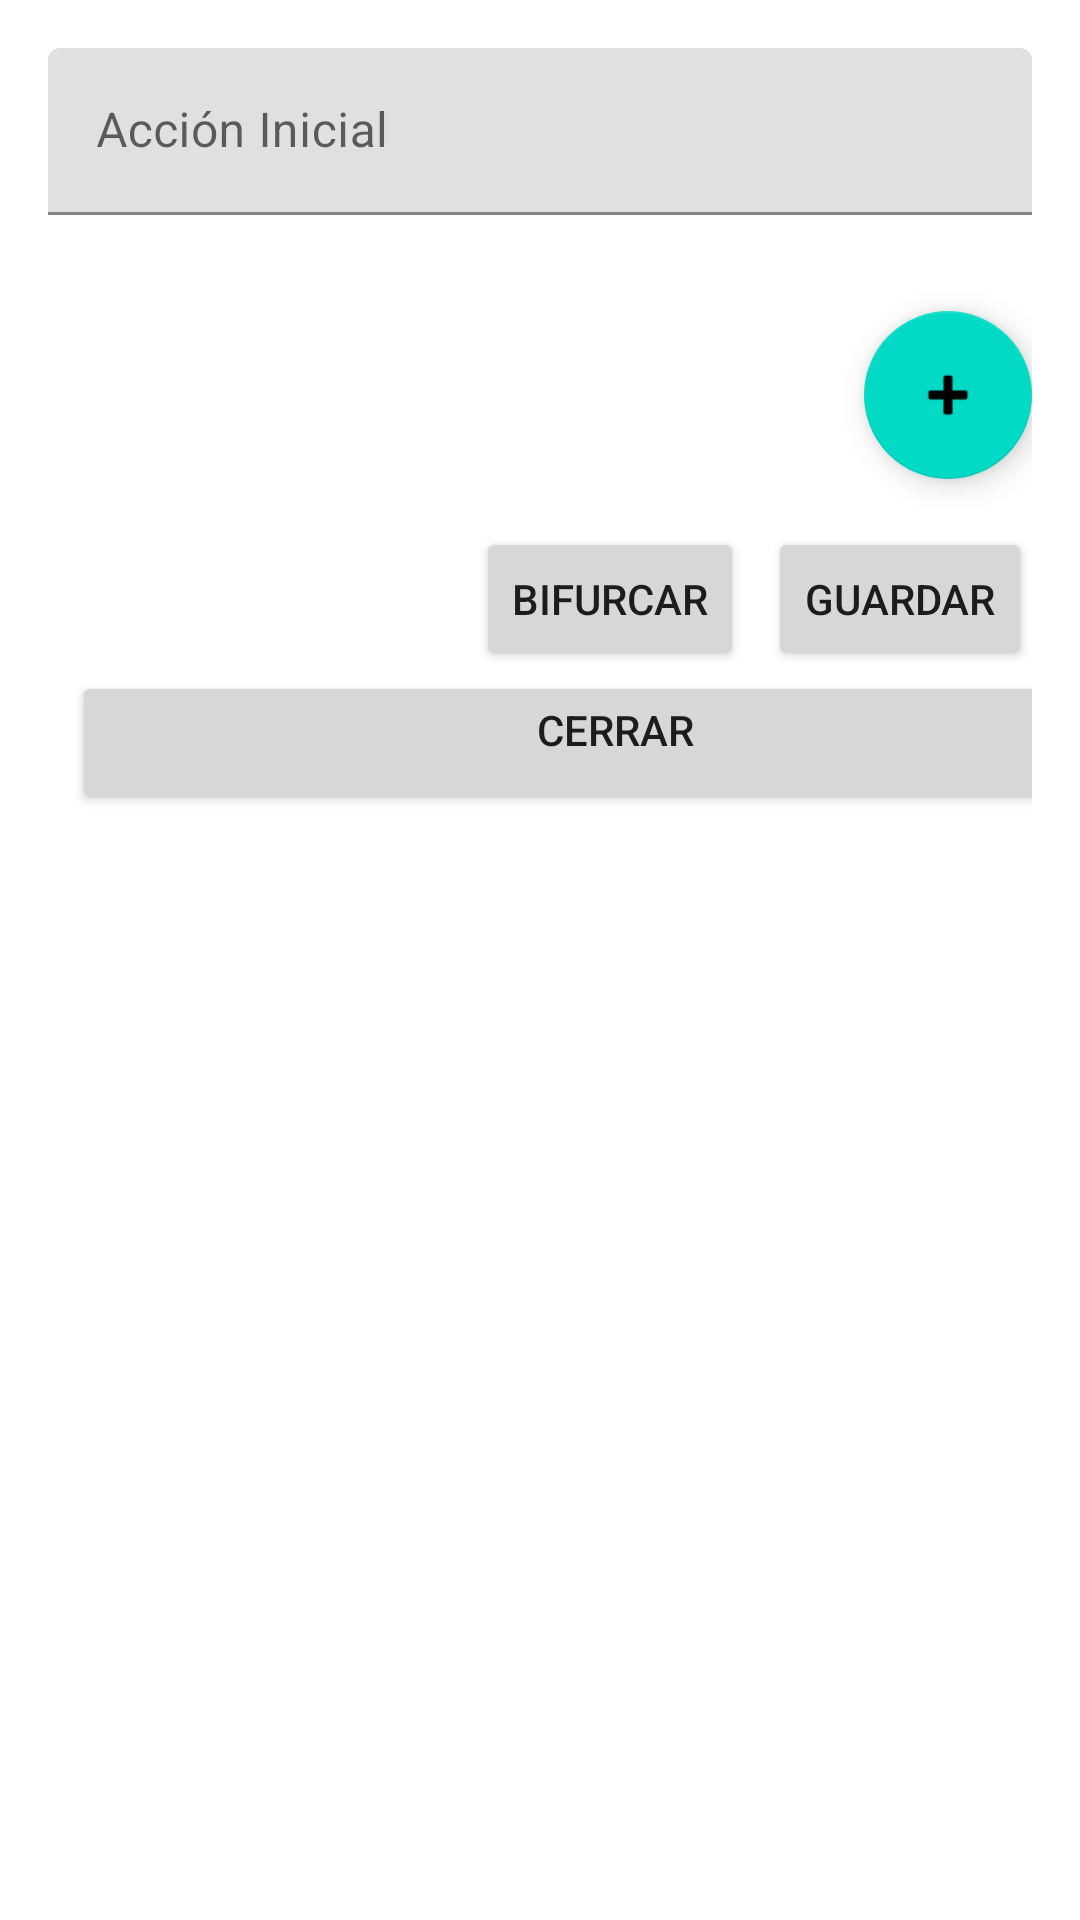

Icons on this 1080w x 1920h Android screen, each with the point to tap as (x,y):
add: (948,395)
